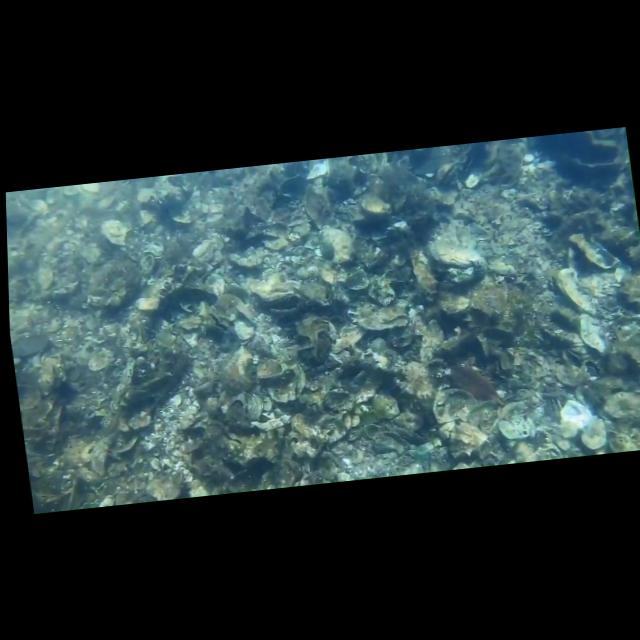Oyster-Closed: (429, 230, 482, 283), (568, 233, 618, 268), (433, 388, 478, 423), (323, 227, 352, 260), (359, 192, 391, 219), (100, 219, 129, 245)
Oyster-Indeterminate: (555, 267, 596, 314), (265, 363, 305, 402), (355, 304, 408, 330), (246, 273, 301, 298), (448, 423, 488, 457), (237, 392, 263, 420), (257, 359, 282, 378)
Oyster-Open: (259, 289, 307, 316), (434, 160, 459, 182)
